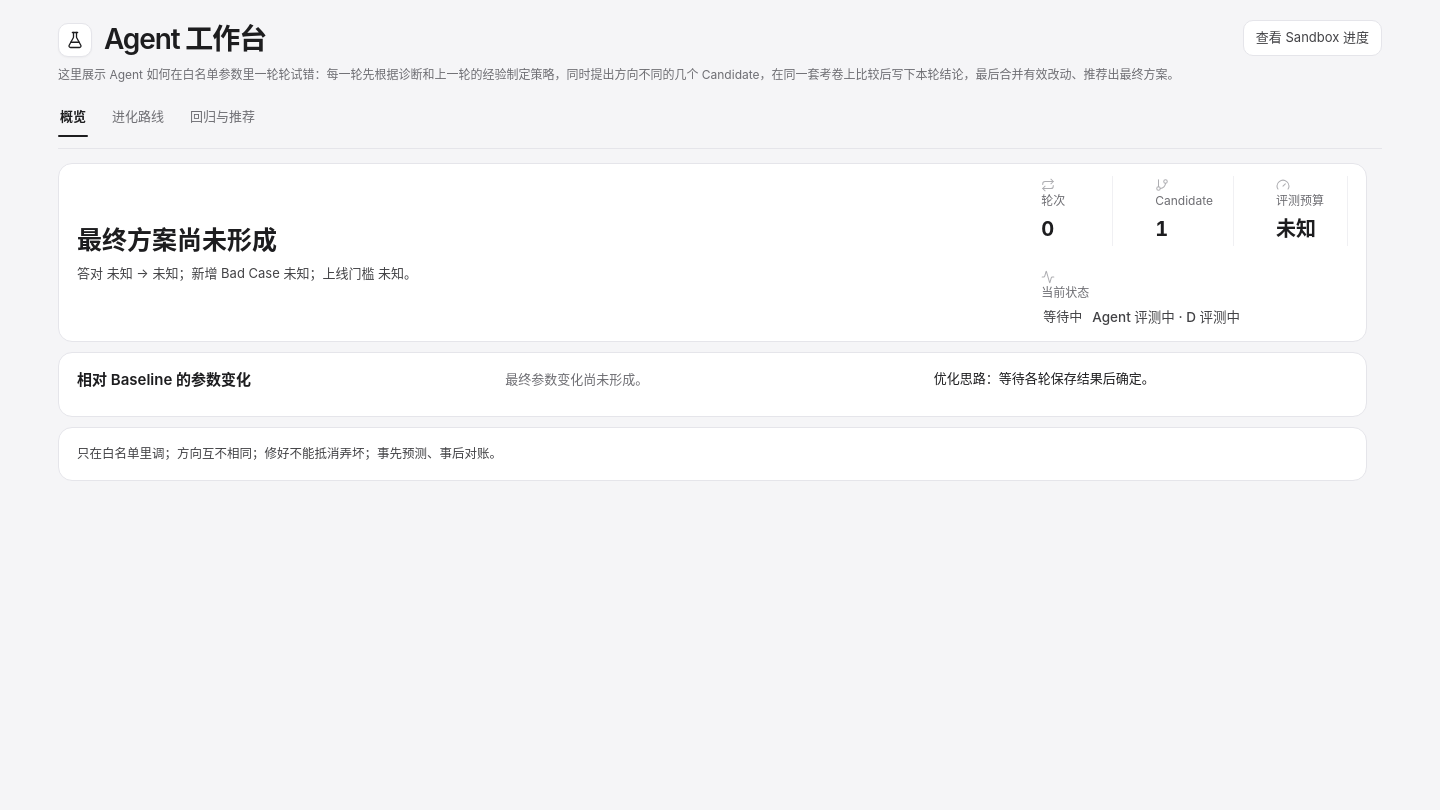
Test case: shows the latest D decision and keeps the old raw decision inside technical details
Click the button "进化路线": x=138, y=116 [110,96,166,136]
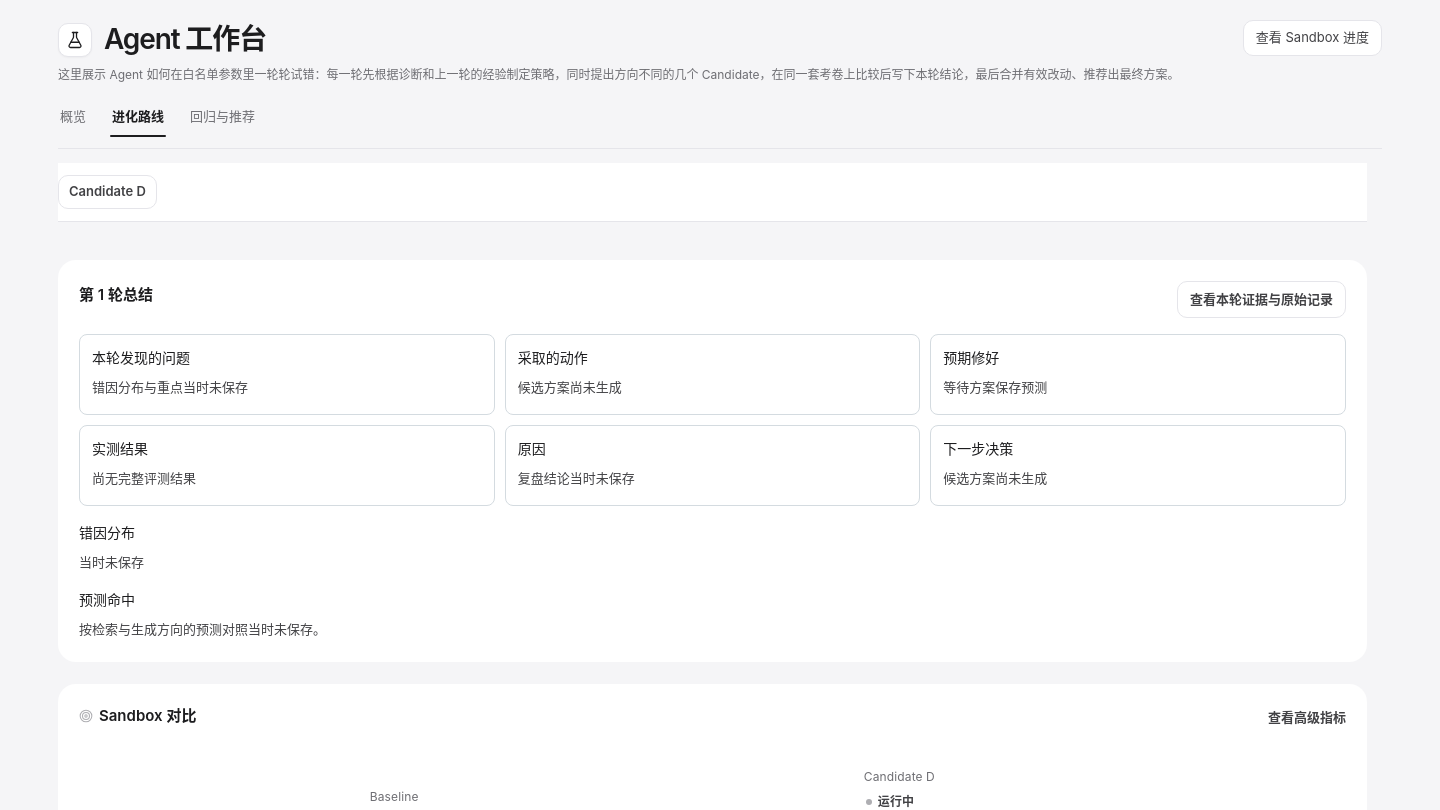
Click the button "Candidate D": x=107, y=192 [58,175,157,209]
(page scrolled)
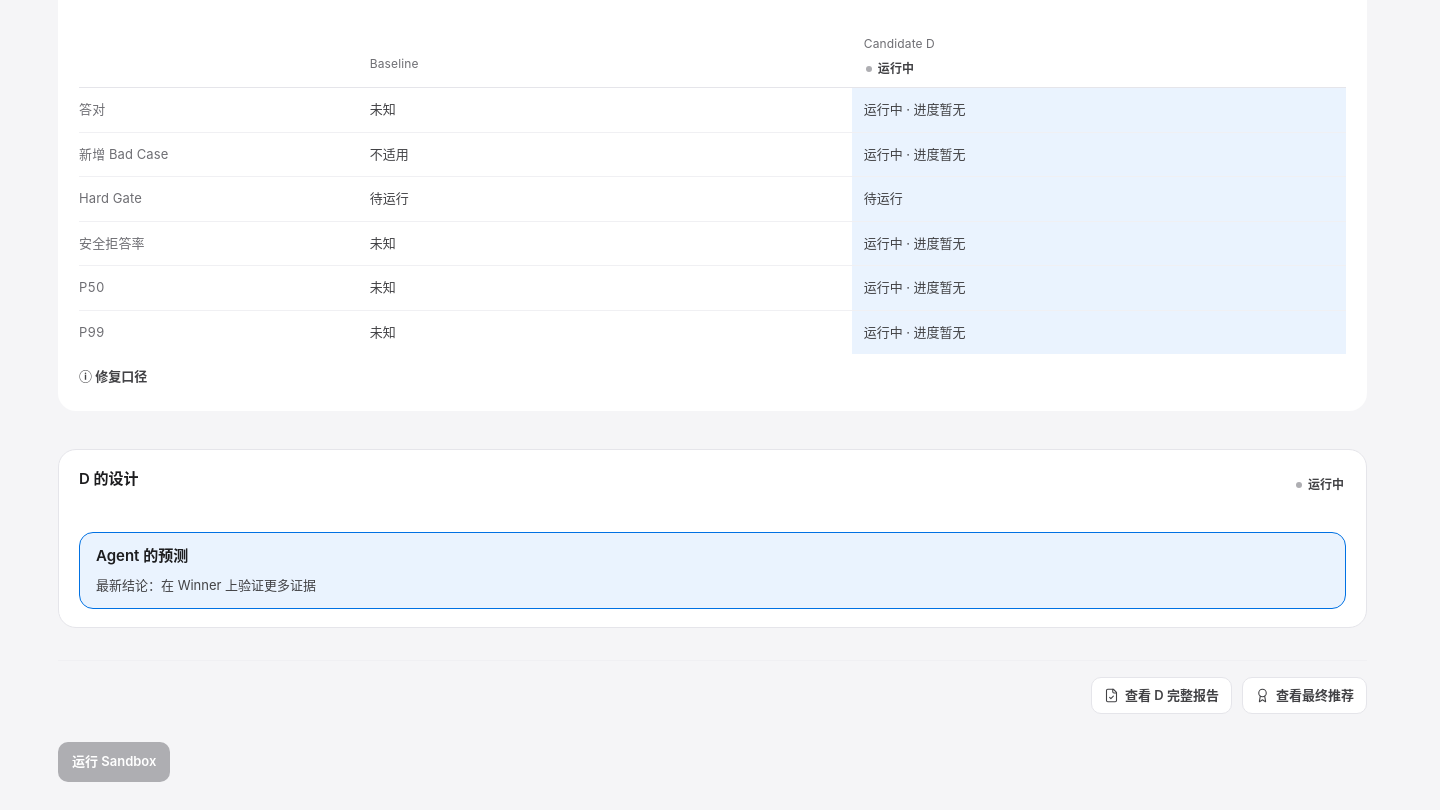
Expected: the element with class "d-story" shows "最新结论", [96,577,316,593]
